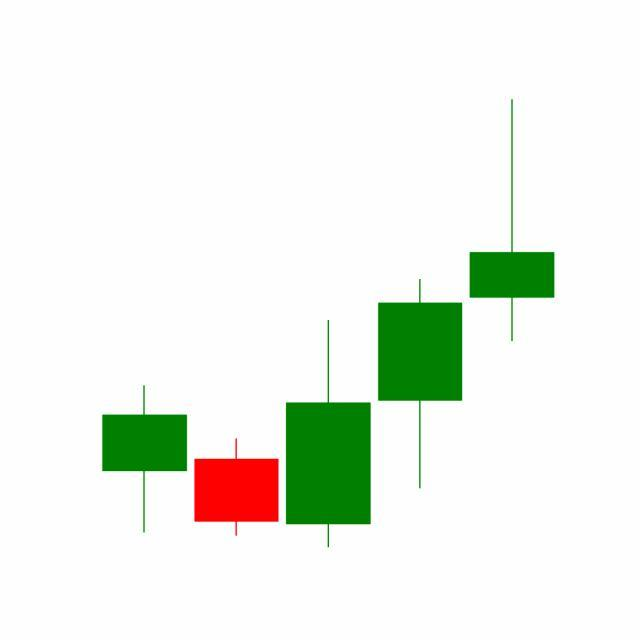Three Outside Up-Down: (190, 275, 467, 548)
